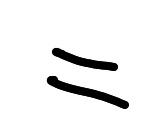eqv: (47, 48, 129, 110)
